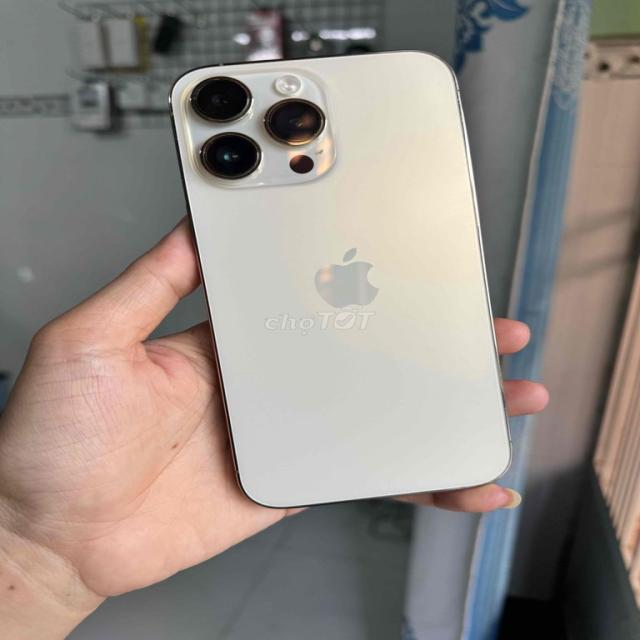gen_14: (164, 43, 522, 515)
